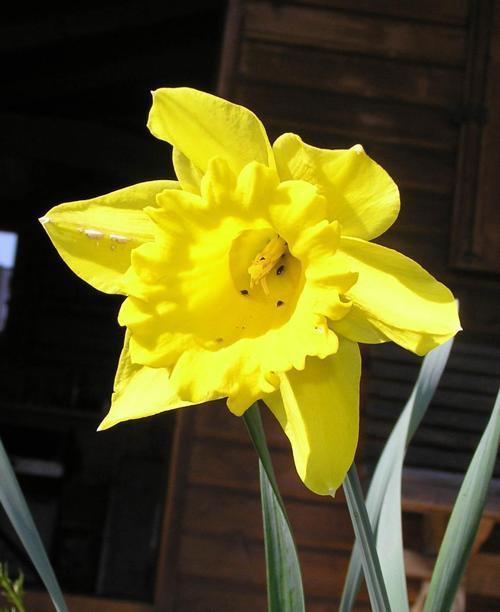flower1: (39, 86, 464, 498)
